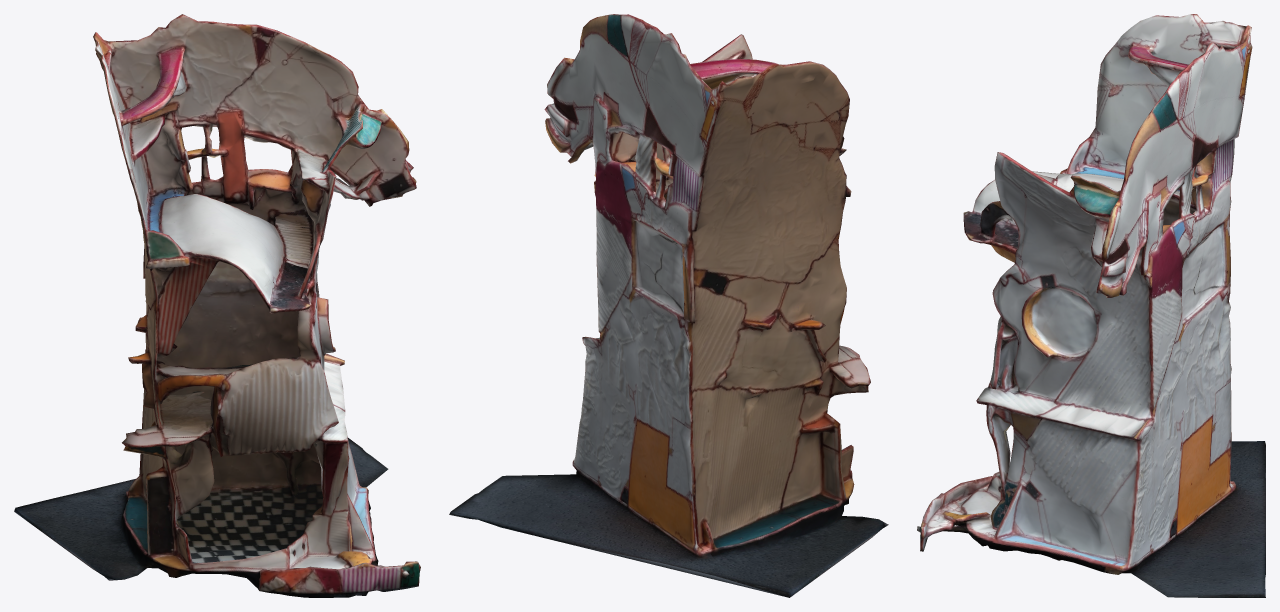
3 renders of one model, left to right at view 1: azimuth 30°, elevation 25°; view 2: azimuth 150°, elevation 25°; view 3: azimuth 270°, elevation 25°, orthographic. The views are drawn at different scales.
Parts seen in each view (by area): view 1: lielais-krasainais_Model_11; view 2: lielais-krasainais_Model_11; view 3: lielais-krasainais_Model_11.
Boxes of the visible parts, left/top/right/bottom form: lielais-krasainais_Model_11: left=14, top=14, right=420, bottom=597; lielais-krasainais_Model_11: left=449, top=14, right=888, bottom=597; lielais-krasainais_Model_11: left=917, top=14, right=1265, bottom=597.
Size of the model in its own units: 8.28 by 11.79 by 7.95.
1 material, 1 textured.
